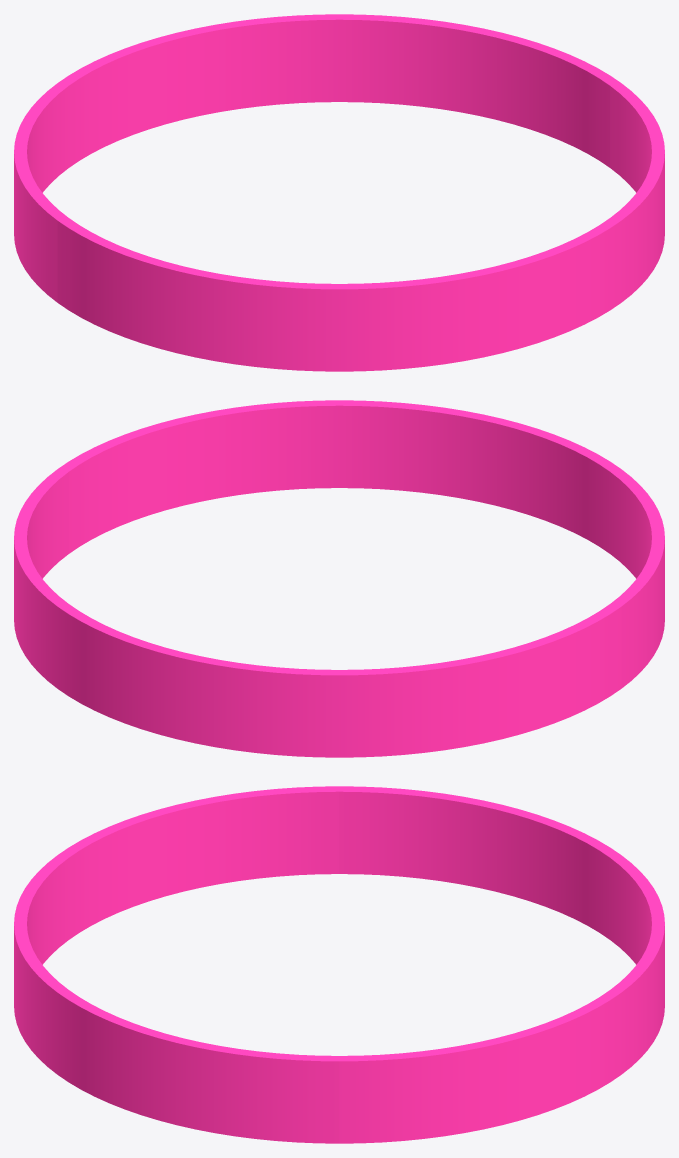
Rendered from wear_ring_wear.glb.
3 renders of one model, top to bottom at view 1: azimuth 30°, elevation 25°; view 2: azimuth 150°, elevation 25°; view 3: azimuth 270°, elevation 25°, orthographic.
Parts seen in each view (by area): view 1: wear__front, wear__back; view 2: wear__back, wear__front; view 3: wear__back, wear__front.
Boxes of the visible parts, left/top/right/bottom form: wear__front: left=57, top=83, right=664, bottom=371; wear__back: left=14, top=14, right=620, bottom=302; wear__back: left=14, top=469, right=621, bottom=757; wear__front: left=58, top=400, right=664, bottom=688; wear__back: left=339, top=786, right=664, bottom=1143; wear__front: left=14, top=786, right=339, bottom=1143.
Size of the model in its own units: 0.1506 by 0.021 by 0.1506.
